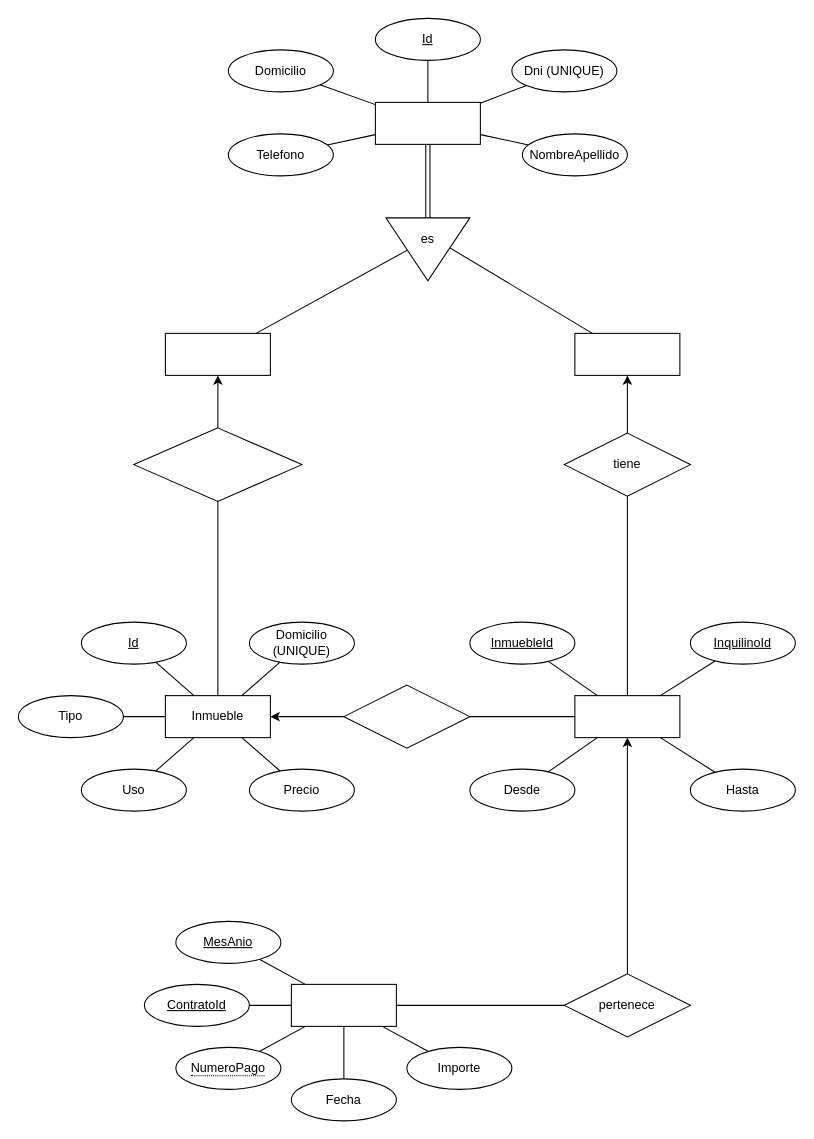
Image size: 814x1139. Some labels were removed from this diagram. Each missing label, with the centre of its shape:
alquila: (406,716)
Contrato: (627,716)
Inmueble-Propietario: (217,464)
Inquilino: (627,353)
Pago: (343,1004)
Persona: (427,122)
Propietario: (217,353)
